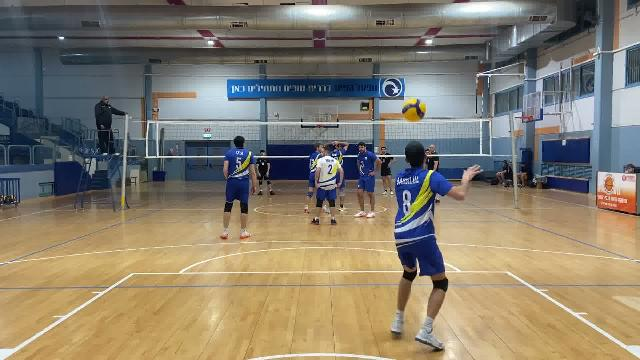ball: (400, 99, 428, 121)
